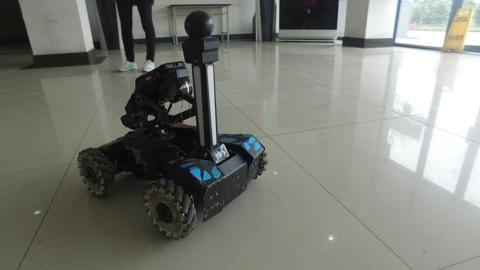chariot: (76, 10, 270, 242)
